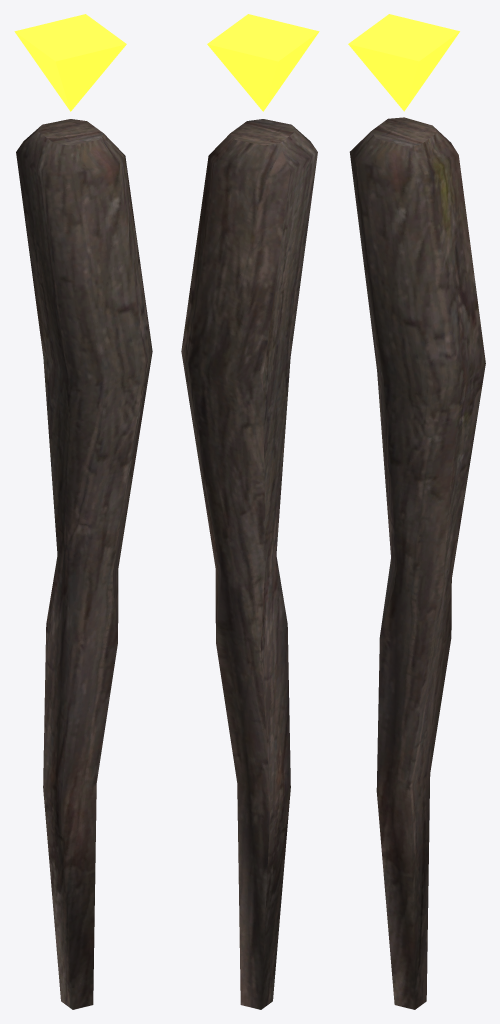
File: light_post.glb
The picture shows the model from 3 angles, left to right: view 1: azimuth 30°, elevation 25°; view 2: azimuth 150°, elevation 25°; view 3: azimuth 330°, elevation 25°; orthographic projection.
Visible parts, largest first — view 1: Cube, Cube.002; view 2: Cube, Cube.002; view 3: Cube, Cube.002.
Part boxes in pixels (left/top/right/bottom): Cube: left=16, top=119, right=152, bottom=1009; Cube.002: left=14, top=14, right=126, bottom=111; Cube: left=181, top=119, right=317, bottom=1009; Cube.002: left=207, top=14, right=319, bottom=111; Cube: left=349, top=117, right=485, bottom=1009; Cube.002: left=348, top=14, right=459, bottom=111.
Size of the model in its own units: 0.3348 by 2.84 by 0.2515.
Materials: 2 (1 with a texture image).
